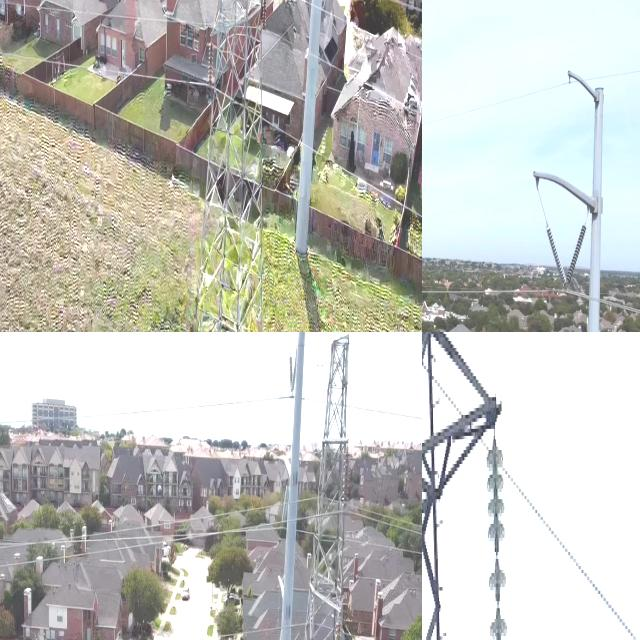杆塔: (422, 332, 506, 640), (194, 0, 269, 332), (275, 332, 349, 640)
正常绝缘子: (483, 406, 508, 640), (545, 223, 569, 291), (564, 223, 588, 288), (339, 439, 350, 511), (207, 32, 214, 86), (331, 612, 342, 640), (260, 0, 268, 32)
绝缘子破损: (493, 543, 500, 565), (494, 591, 500, 614)
